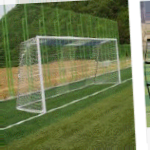goals: (15, 33, 123, 115)
